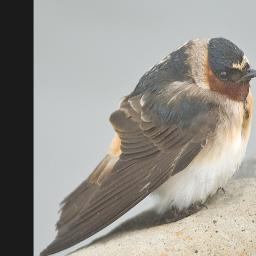Swallow: (37, 36, 256, 256)
